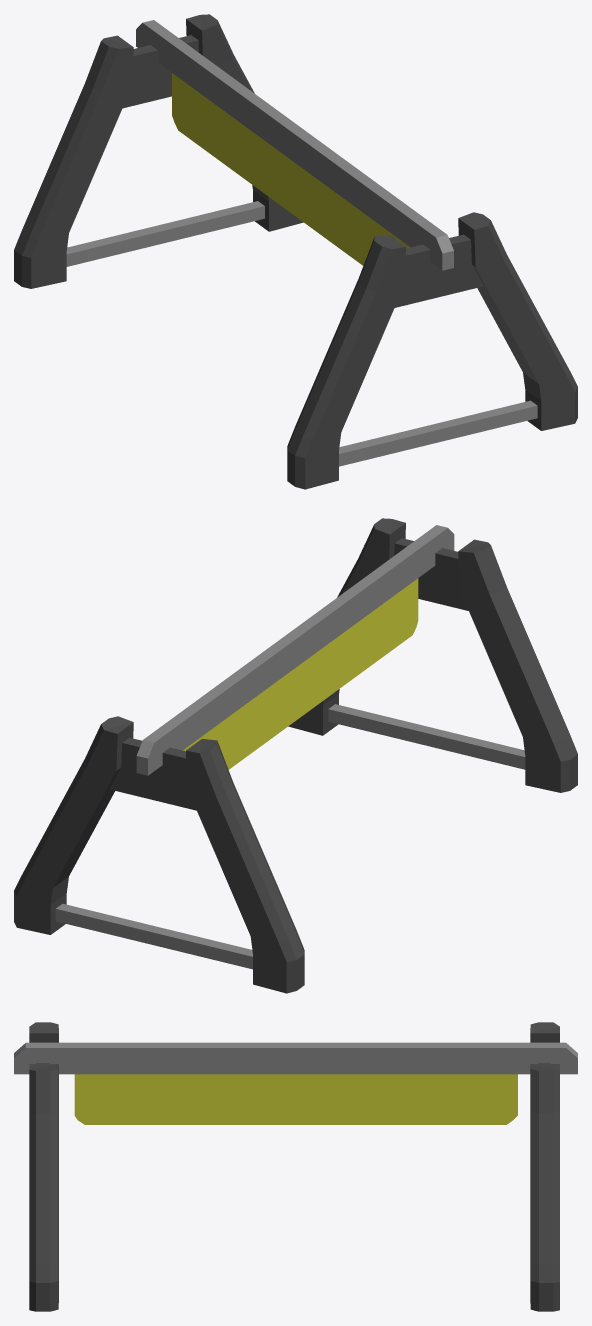
The model's file is RoadBlock.fbx.
The picture shows the model from 3 angles, top to bottom: view 1: azimuth 30°, elevation 25°; view 2: azimuth 150°, elevation 25°; view 3: azimuth 270°, elevation 25°; orthographic projection. The views are drawn at different scales.
Visible parts, largest first — view 1: RoadBlock; view 2: RoadBlock; view 3: RoadBlock.
Part boxes in pixels (x1,y1,x2,y2): RoadBlock: (14, 14, 577, 489); RoadBlock: (14, 518, 577, 993); RoadBlock: (14, 1022, 577, 1311).
Bounding box in the file's own units: 3.5 × 2.62 × 6.56.
